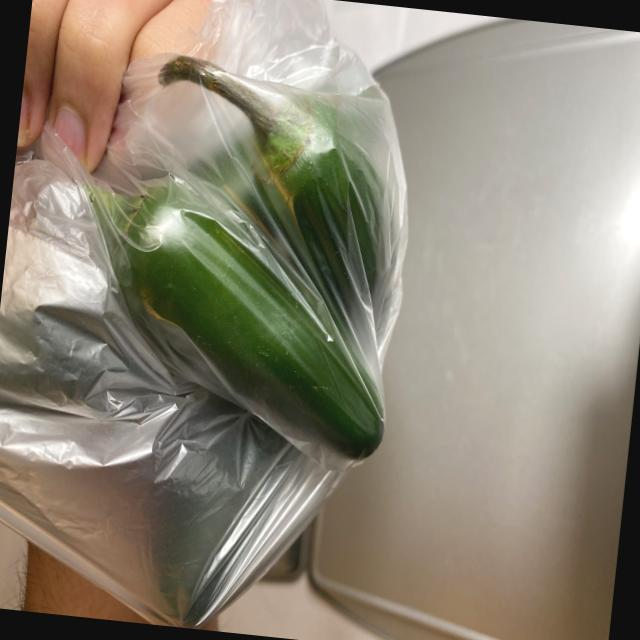chilli: (11, 20, 437, 633)
